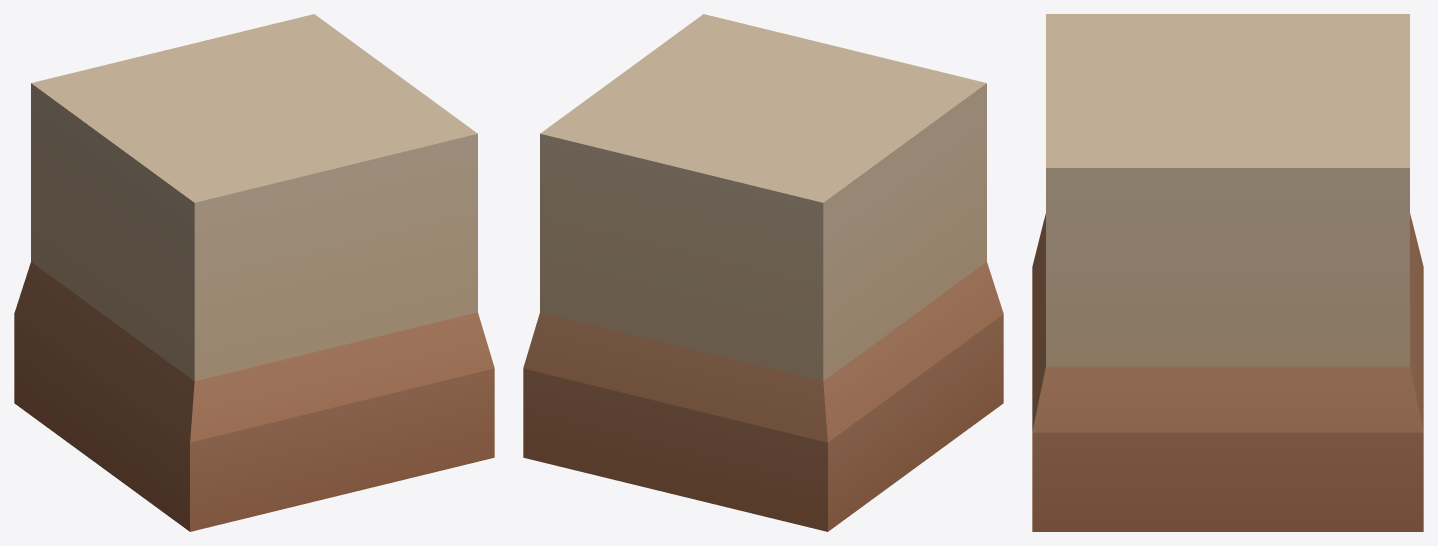
The model's file is tower-square-base.glb.
3 renders of one model, left to right at view 1: azimuth 30°, elevation 25°; view 2: azimuth 150°, elevation 25°; view 3: azimuth 270°, elevation 25°, orthographic. The views are drawn at different scales.
Parts seen in each view (by area): view 1: tower-square-base; view 2: tower-square-base; view 3: tower-square-base.
Boxes of the visible parts, box(x1,y1,x2,y2) form: tower-square-base: box(14, 14, 494, 531); tower-square-base: box(523, 14, 1003, 531); tower-square-base: box(1032, 14, 1423, 531).
Bounding box in the file's own units: 1 × 1.01 × 1.
